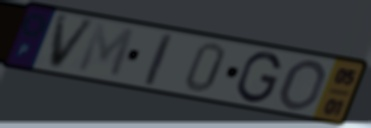0: (182, 41, 227, 95)
G: (234, 50, 283, 105)
I: (142, 31, 175, 89)
M: (74, 21, 137, 81)
O: (277, 57, 329, 112)
V: (47, 13, 99, 71)
